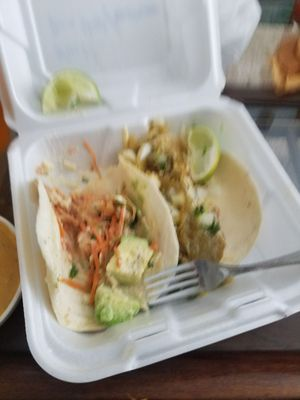burger: (143, 249, 300, 307)
sushi: (0, 214, 22, 331)
